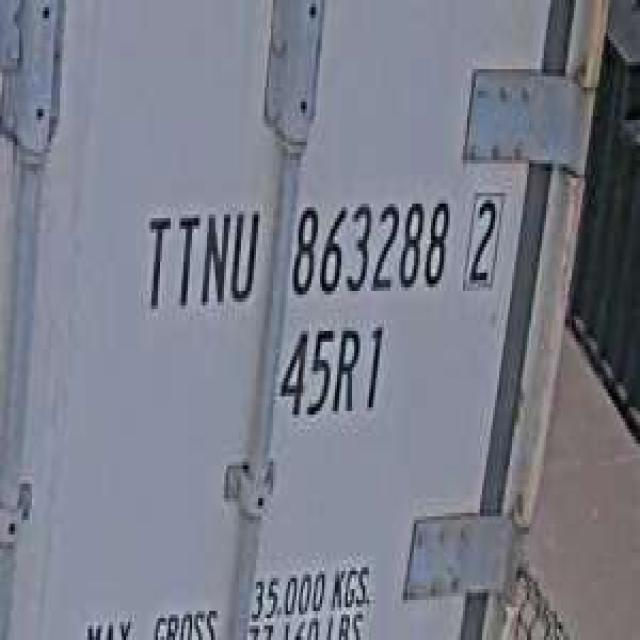dv: (461, 182, 508, 294)
owner: (136, 193, 262, 320)
serial: (284, 182, 452, 305)
size: (276, 313, 390, 425)
